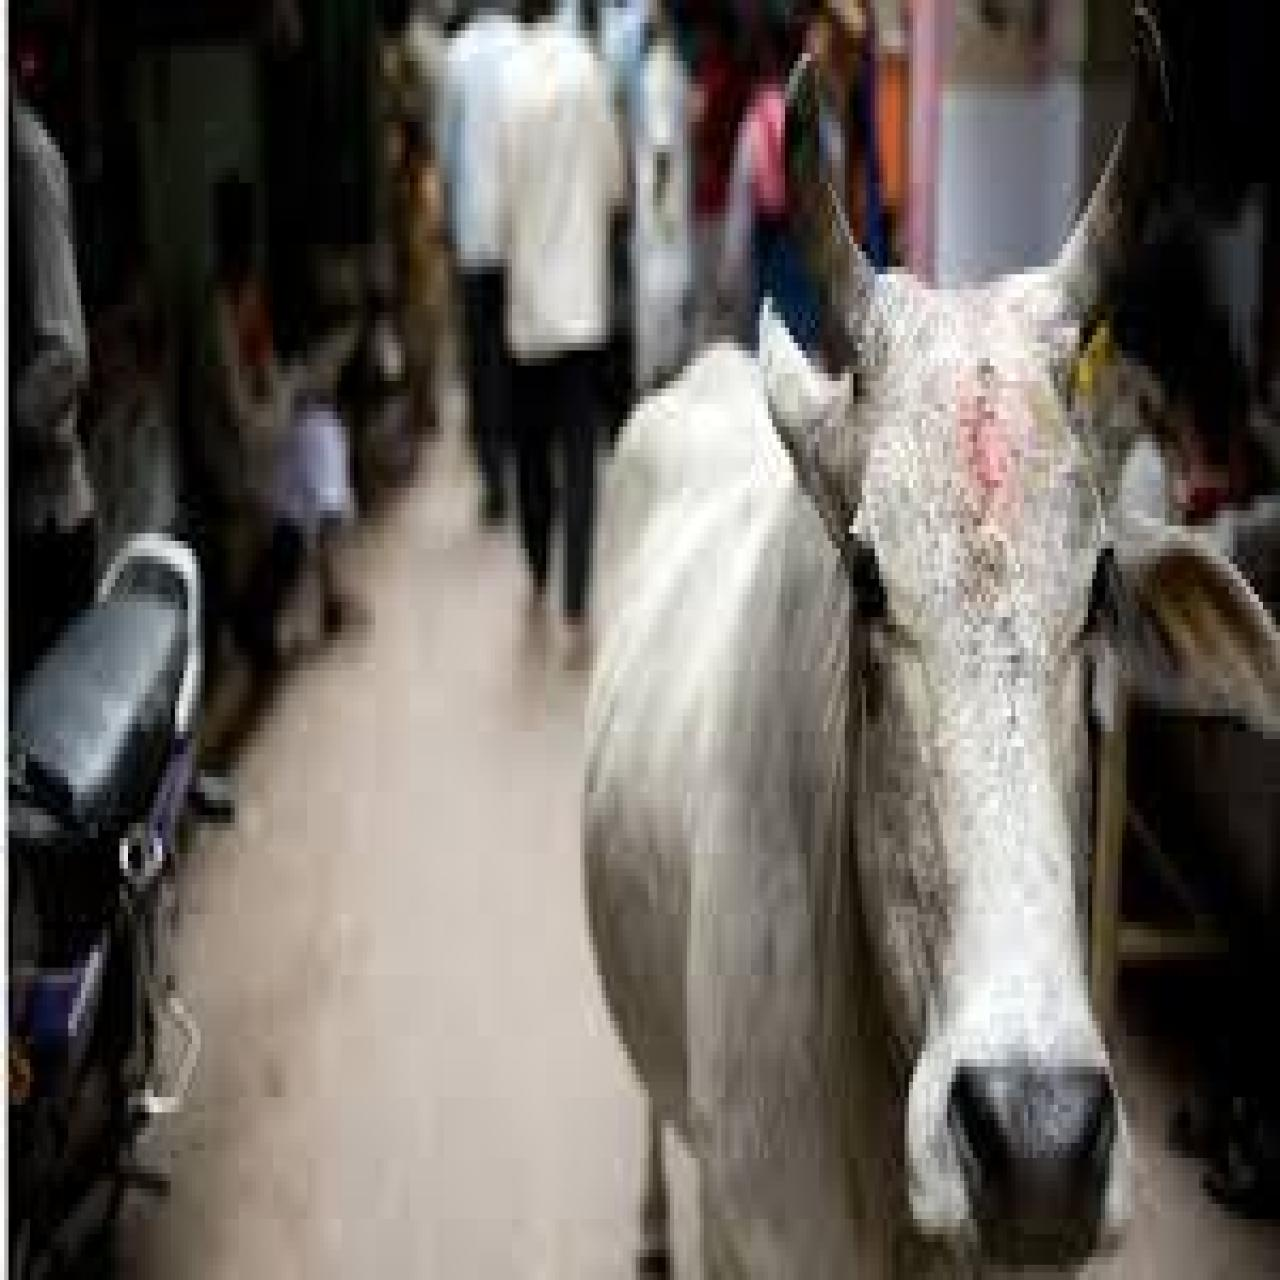cow: (583, 266, 1276, 1280)
